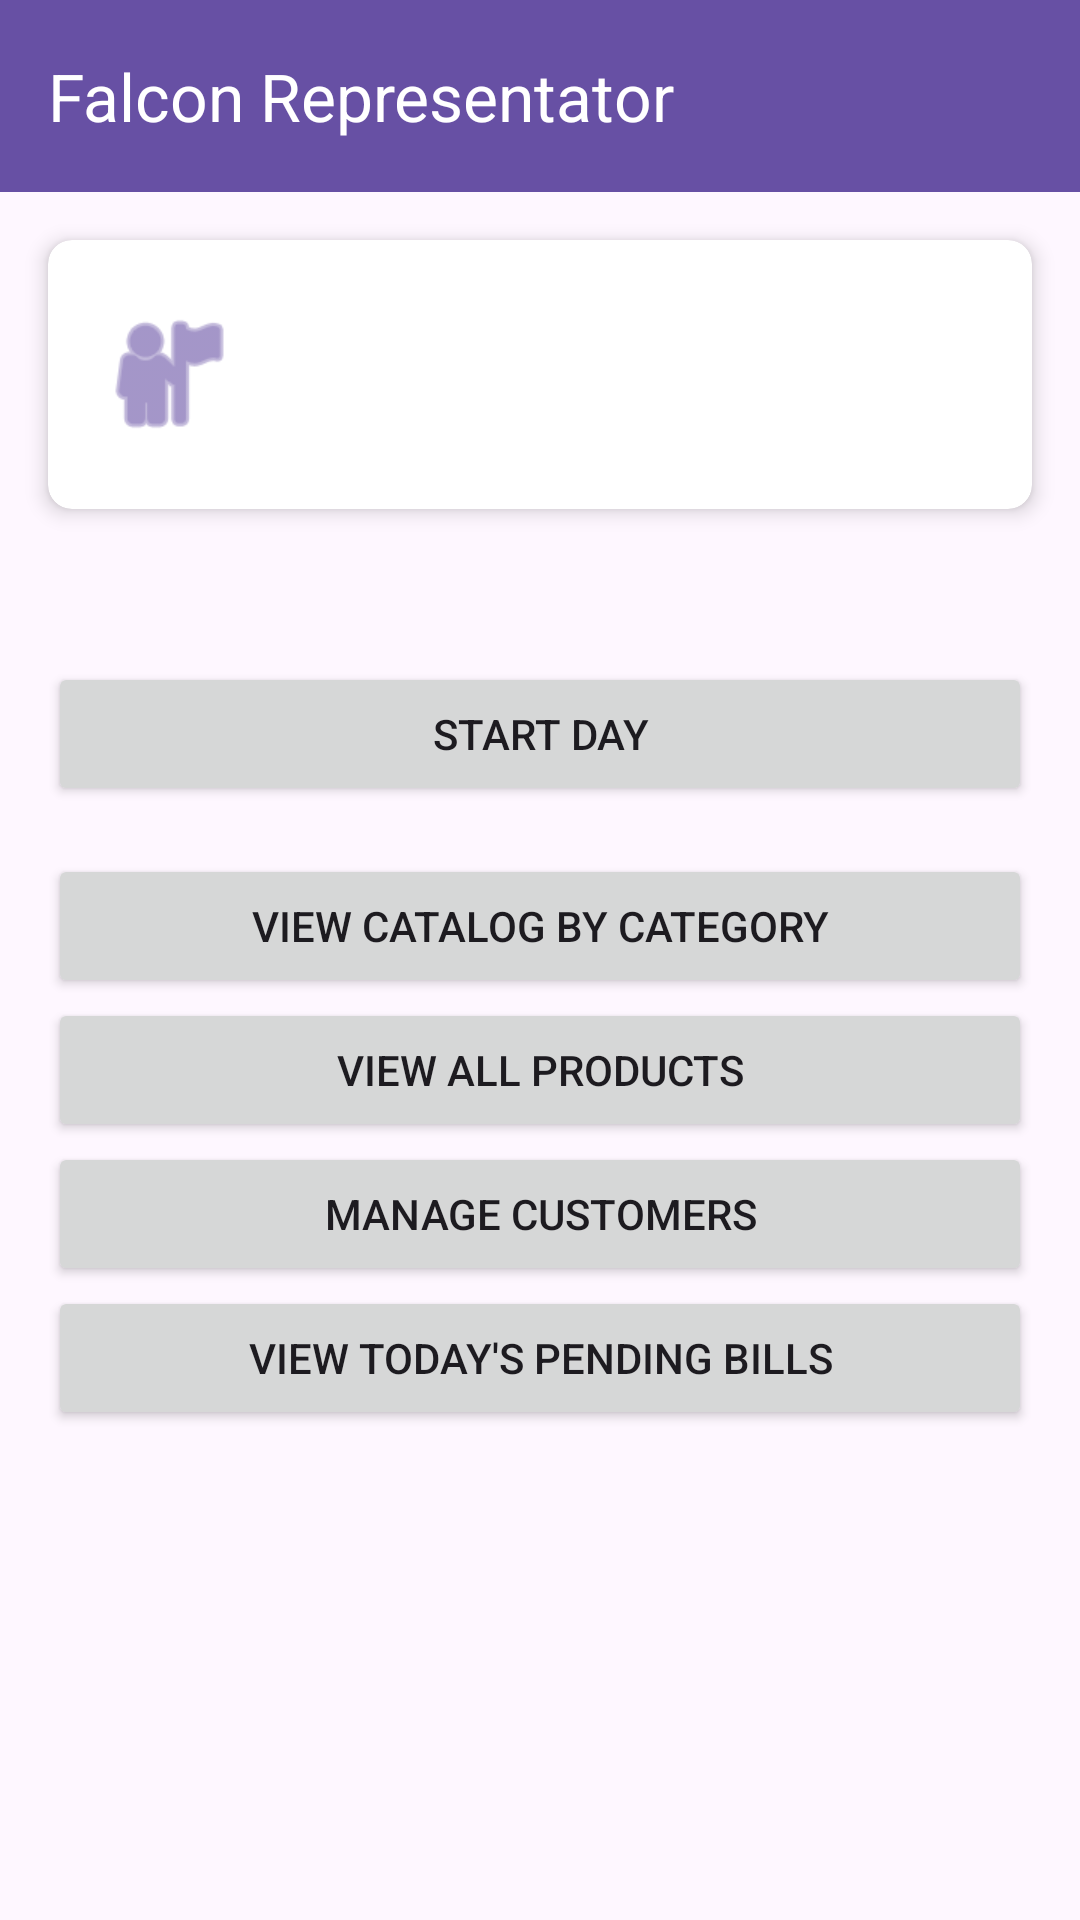

Named icons in this screenshot (1080px×1920px) and their bounding boxes, [x1, y1, x2, y2]:
myplaces: [116, 320, 224, 428]
